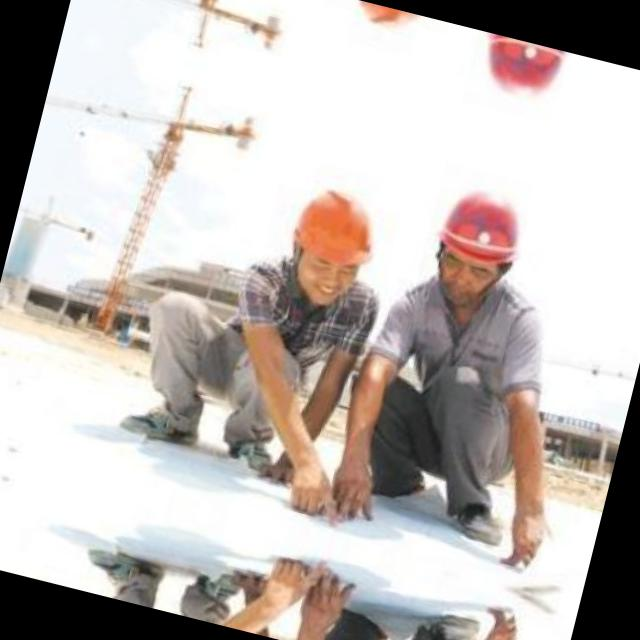helmet: (414, 164, 542, 320), (266, 166, 394, 317), (462, 30, 576, 124), (330, 0, 437, 52)
